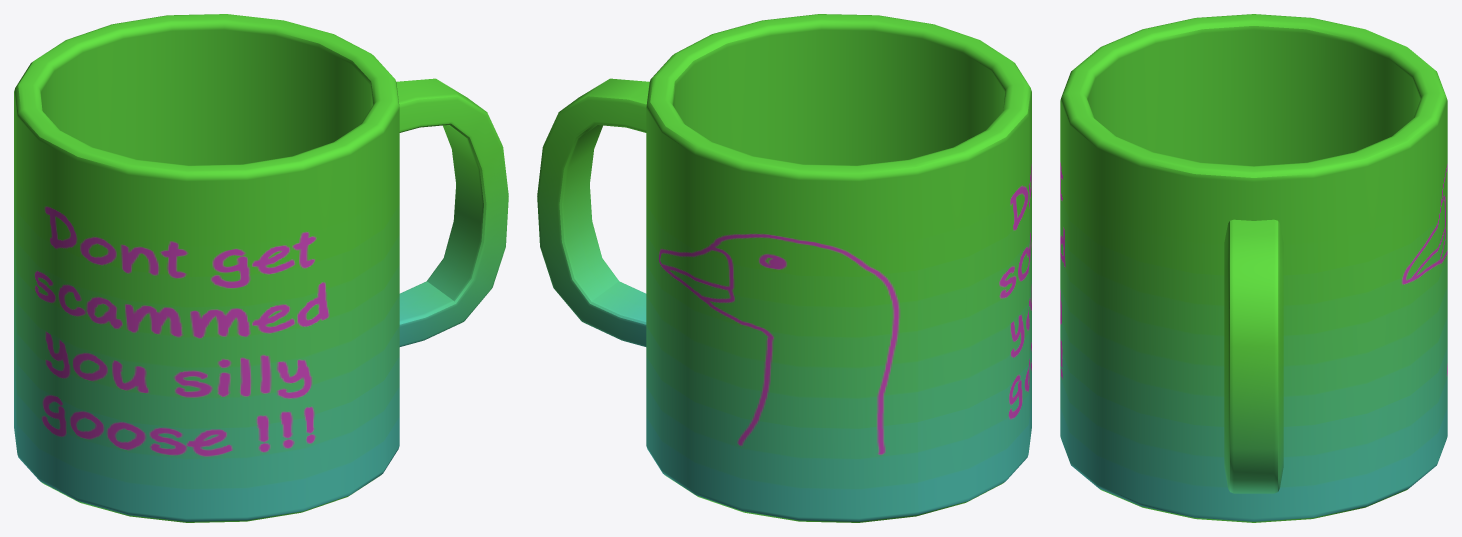
The model's file is Mug2.fbx.
3 views of the same model, side by side, from view 1: azimuth 30°, elevation 25°; view 2: azimuth 150°, elevation 25°; view 3: azimuth 270°, elevation 25° (orthographic).
Visible parts, largest first — view 1: Mug; view 2: Mug; view 3: Mug.
Boxes of the visible parts, x1,y1,x2,y2 form: Mug: (14,14,508,522); Mug: (537,14,1031,522); Mug: (1060,14,1447,522).
Size of the model in its own units: 0.6517 by 0.4768 by 0.4768.
1 material, 1 textured.
